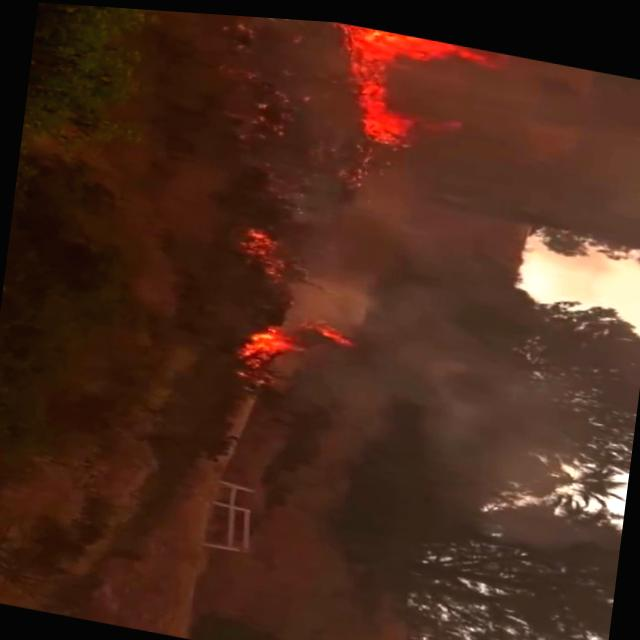fire: (308, 16, 467, 172)
smoke: (260, 253, 609, 458)
